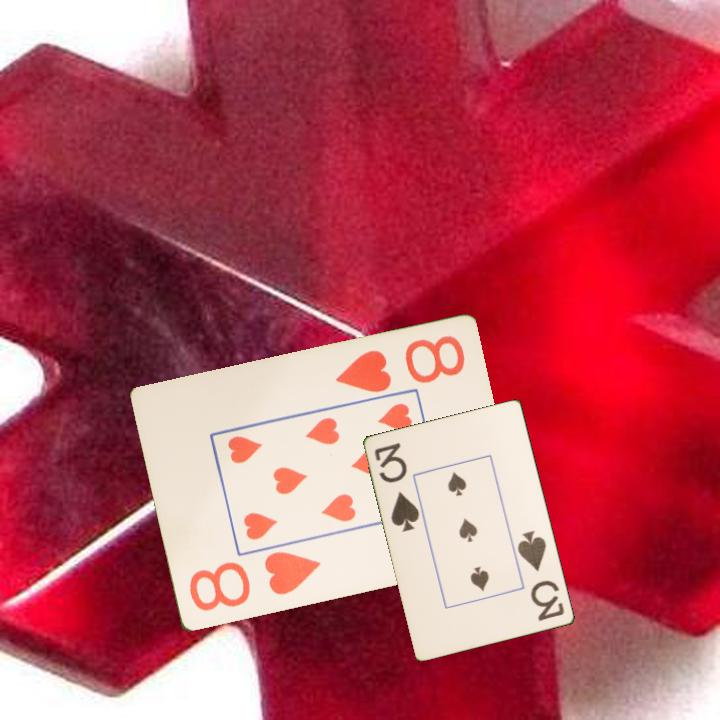3s: (514, 527, 568, 624), (371, 439, 423, 535)
8h: (185, 548, 324, 615), (331, 332, 468, 396)
